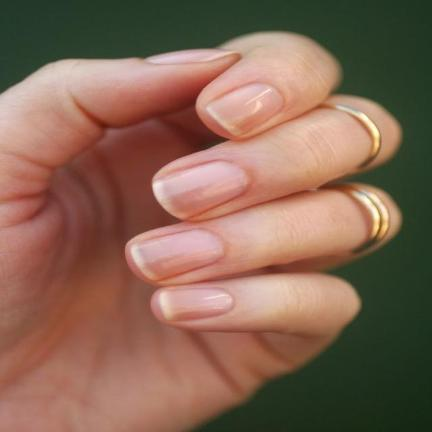Nail: (152, 160, 248, 220), (130, 228, 224, 281), (204, 83, 285, 137), (160, 289, 234, 321), (145, 50, 239, 65)
